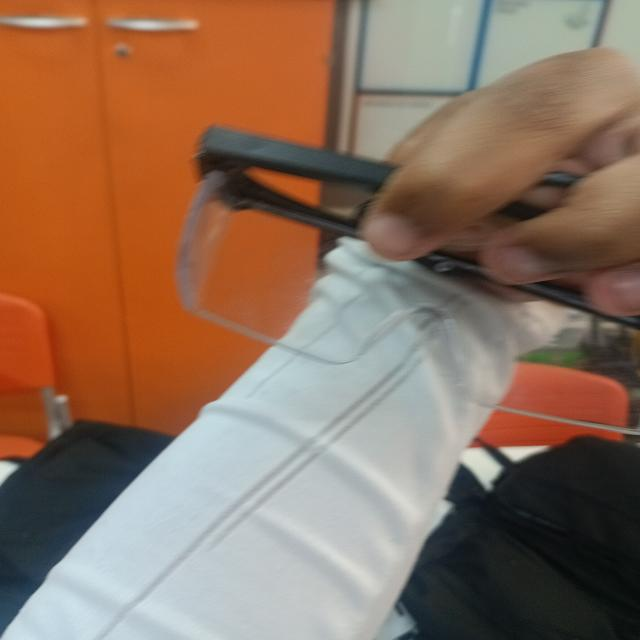oculos-epi: (177, 129, 639, 433)
